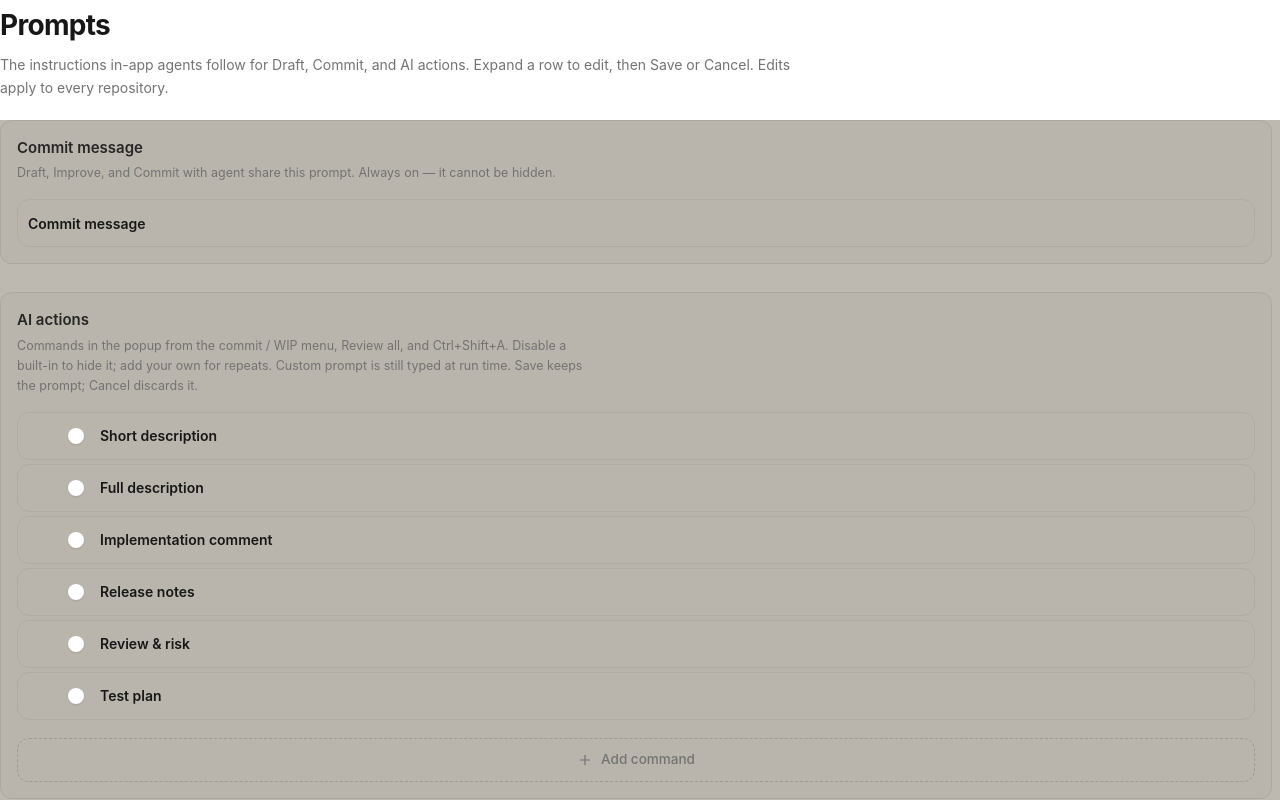
Test: AgentPromptsSettings › cancels an in-progress edit without writing
Click the button "Commit message".
click(87, 223)  # box [22,205,1206,241]
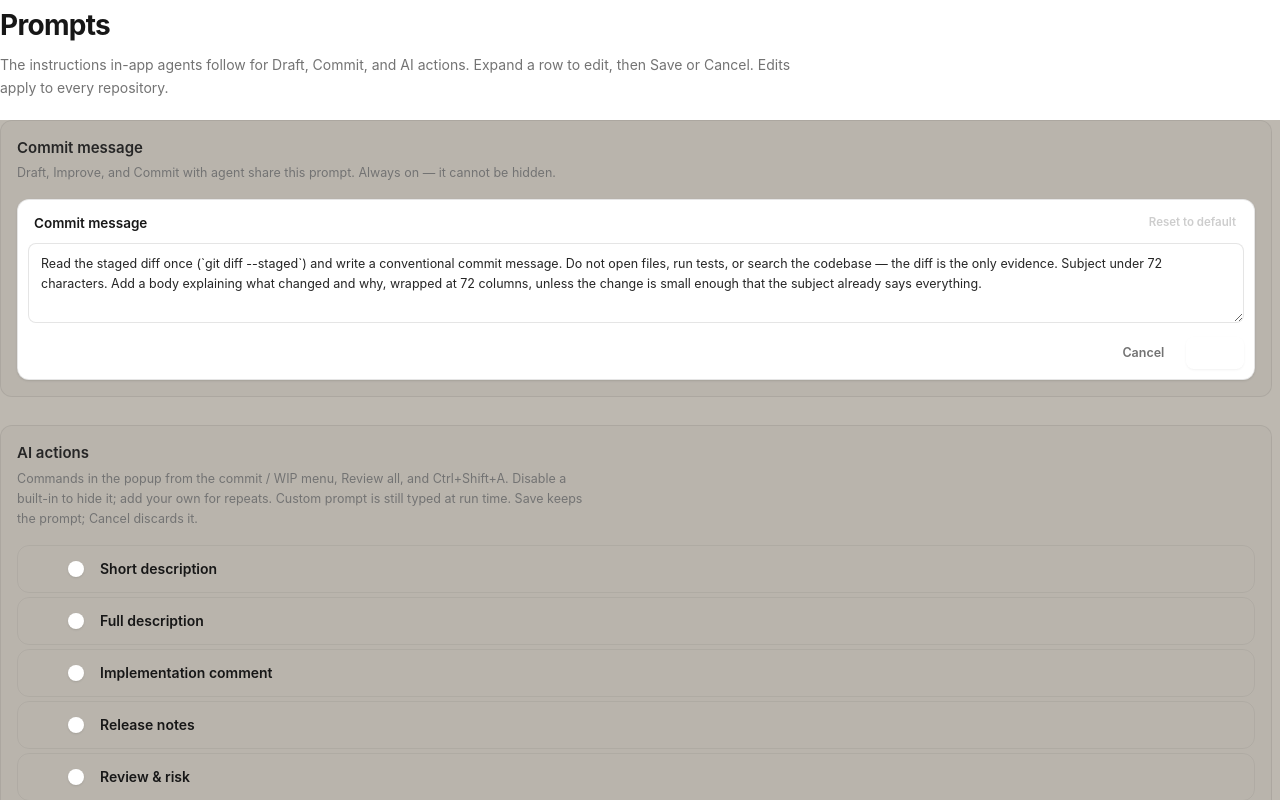
Replace the text in the text box named "Prompt for Commit message" with "Throw this away." at (636, 283), box [28,243,1244,323]
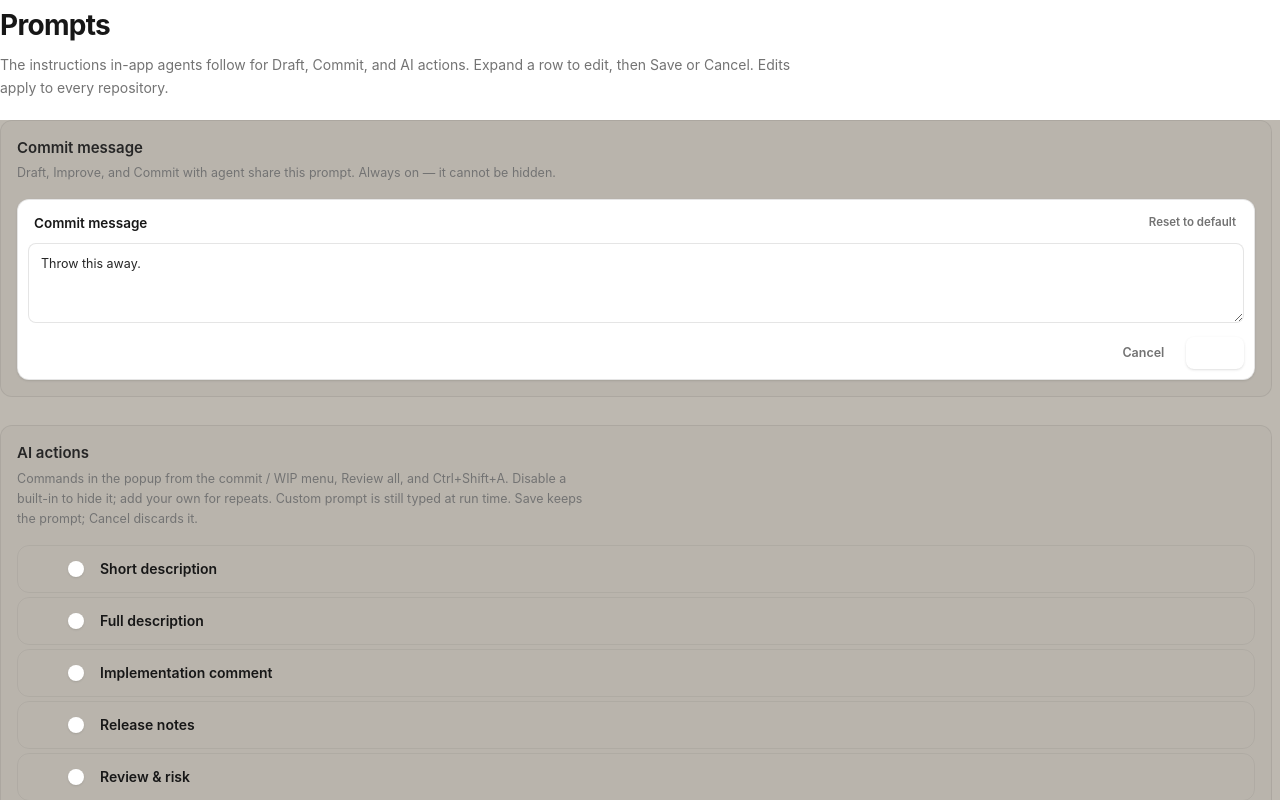
Click the button with aria-label "Cancel Commit message".
click(1143, 353)  # box [1108,337,1178,369]
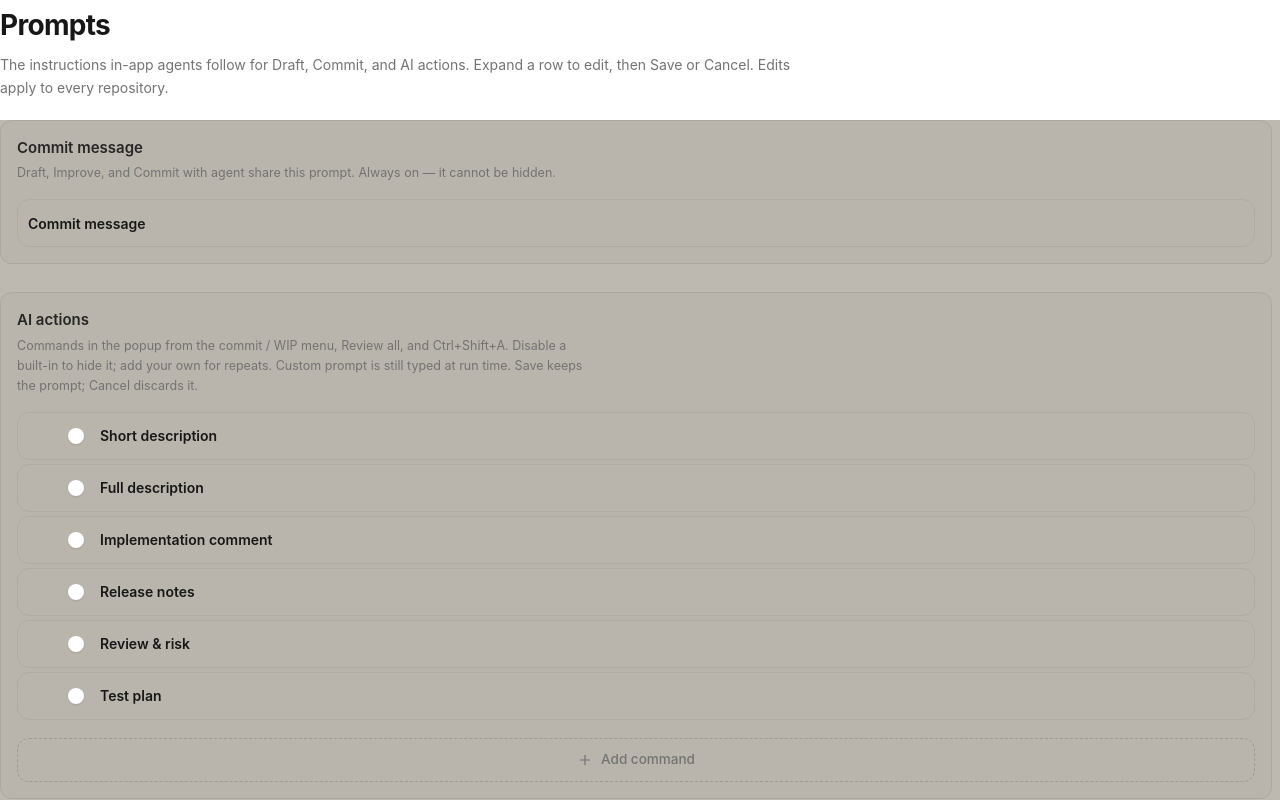
Click the button "Commit message".
click(87, 223)  # box [22,205,1206,241]
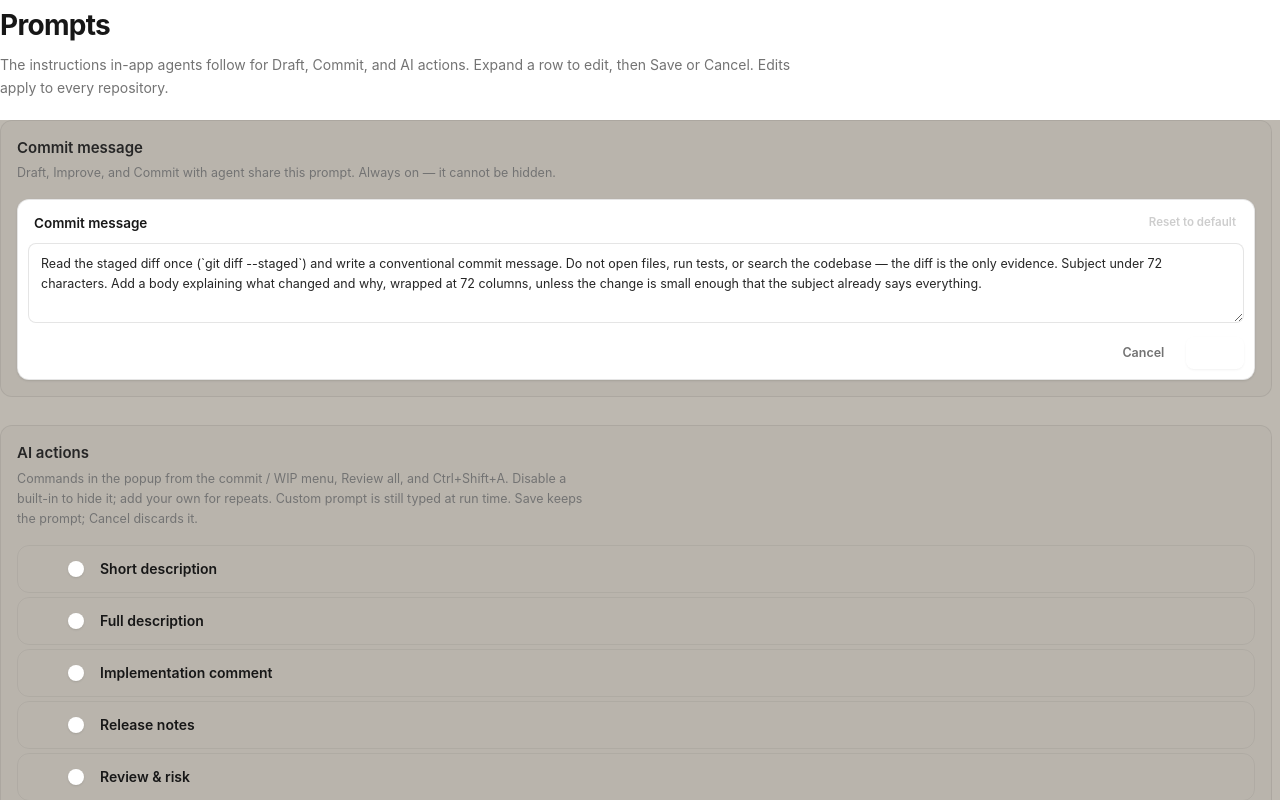
Expected: the text box named "Prompt for Commit message" holds "Read the staged diff once (`git diff --staged`) and write a conventional commit message. Do not open files, run tests, or search the codebase — the diff is the ", [28,243,1244,323]
